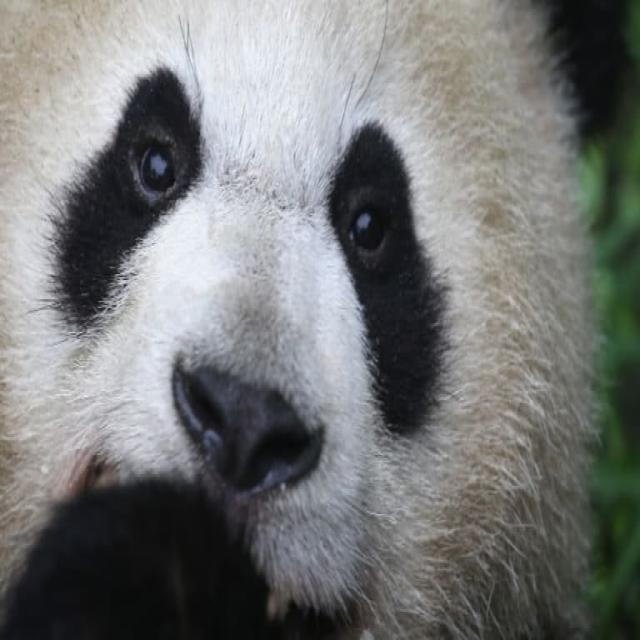Panda: (1, 0, 640, 640)
